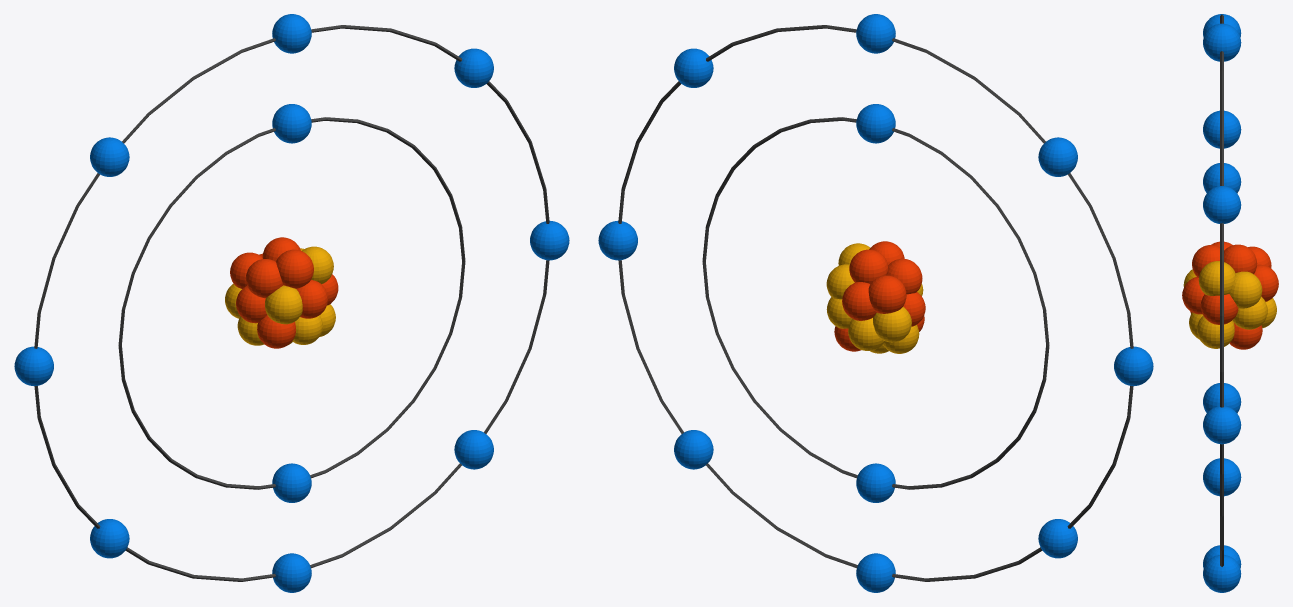
3 renders of one model, left to right at view 1: azimuth 30°, elevation 25°; view 2: azimuth 150°, elevation 25°; view 3: azimuth 270°, elevation 25°, orthographic. The views are drawn at different scales.
Parts seen in each view (by area): view 1: Orbit2, Orbit1, Electron.008, Electron.005, Electron.007, Electron.004, Electron.002, Electron, Electron.006, Electron.009, Electron.001, Electron.003 (+7 smaller); view 2: Orbit2, Orbit1, Electron.008, Electron.005, Electron.007, Electron.004, Electron.002, Electron, Electron.006, Electron.009, Electron.001, Electron.003 (+6 smaller); view 3: Orbit2, Electron.003, Electron.004, Electron.002, Electron.005, Electron, Electron.001, Neutron.006, Neutron.001, Proton.004, Neutron, Electron.007 (+12 smaller).
Boxes of the visible parts, box(x1,y1,x2,y2) form: Orbit2: box(34, 25, 549, 581); Orbit1: box(118, 117, 465, 489); Electron.008: box(90, 137, 129, 176); Electron.005: box(454, 430, 493, 469); Electron.007: box(14, 346, 53, 386); Electron.004: box(530, 221, 569, 260); Electron.002: box(272, 14, 311, 53); Electron: box(272, 104, 311, 143); Electron.006: box(90, 519, 129, 558); Electron.009: box(272, 553, 311, 592); Electron.001: box(272, 463, 311, 502); Electron.003: box(454, 48, 493, 87); Orbit2: box(618, 25, 1133, 581); Orbit1: box(702, 117, 1049, 489); Electron.008: box(1038, 137, 1077, 176); Electron.005: box(674, 430, 713, 469); Electron.007: box(1114, 346, 1153, 386); Electron.004: box(598, 221, 637, 260); Electron.002: box(856, 14, 895, 53); Electron: box(856, 104, 895, 143); Electron.006: box(1038, 519, 1077, 558); Electron.009: box(856, 553, 895, 592); Electron.001: box(856, 463, 895, 502); Electron.003: box(674, 48, 713, 87); Orbit2: box(1220, 14, 1223, 566); Electron.003: box(1203, 186, 1241, 223); Electron.004: box(1203, 406, 1241, 444); Electron.002: box(1203, 23, 1241, 61); Electron.005: box(1203, 555, 1241, 592); Electron: box(1203, 110, 1241, 148); Electron.001: box(1203, 458, 1241, 496); Neutron.006: box(1198, 261, 1235, 295); Neutron.001: box(1229, 271, 1262, 308); Proton.004: box(1200, 294, 1238, 324); Neutron: box(1197, 315, 1234, 348); Electron.007: box(1203, 163, 1241, 193).
Size of the model in its own units: 320 by 320 by 50.48.
